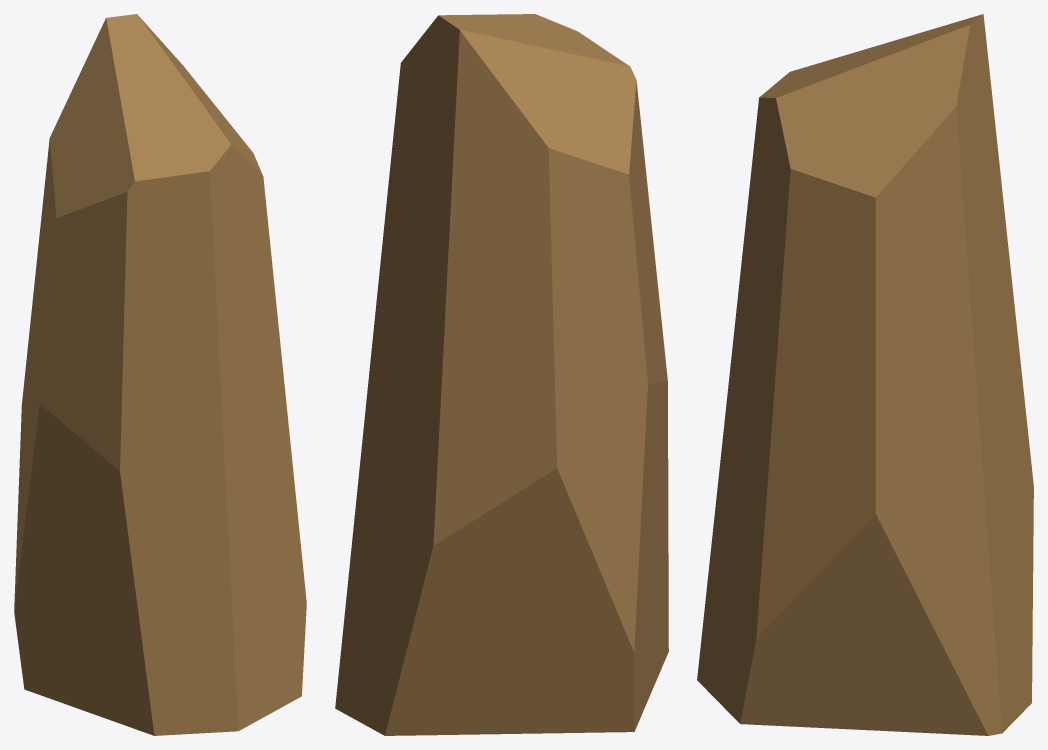
The model's file is roca09.fbx.
3 renders of one model, left to right at view 1: azimuth 30°, elevation 25°; view 2: azimuth 150°, elevation 25°; view 3: azimuth 270°, elevation 25°, orthographic. The views are drawn at different scales.
Parts seen in each view (by area): view 1: small_rock_04_Cylinder_003; view 2: small_rock_04_Cylinder_003; view 3: small_rock_04_Cylinder_003.
Boxes of the visible parts, left/top/right/bottom form: small_rock_04_Cylinder_003: left=14, top=14, right=306, bottom=735; small_rock_04_Cylinder_003: left=335, top=14, right=668, bottom=735; small_rock_04_Cylinder_003: left=697, top=14, right=1033, bottom=735.
Size of the model in its own units: 39.74 by 95.43 by 43.57.
